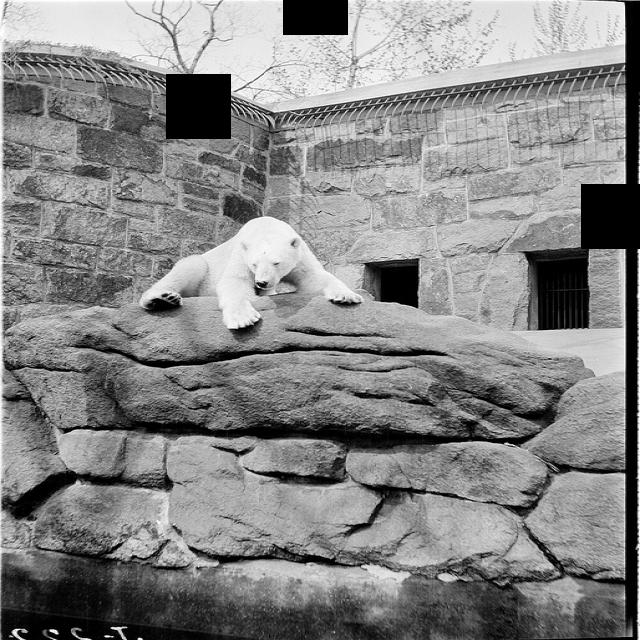Bear: (133, 201, 377, 329)
